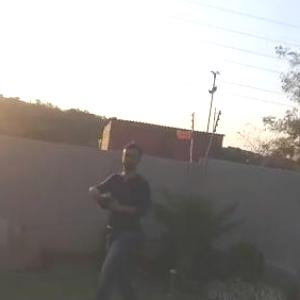follow: (82, 136, 156, 299)
